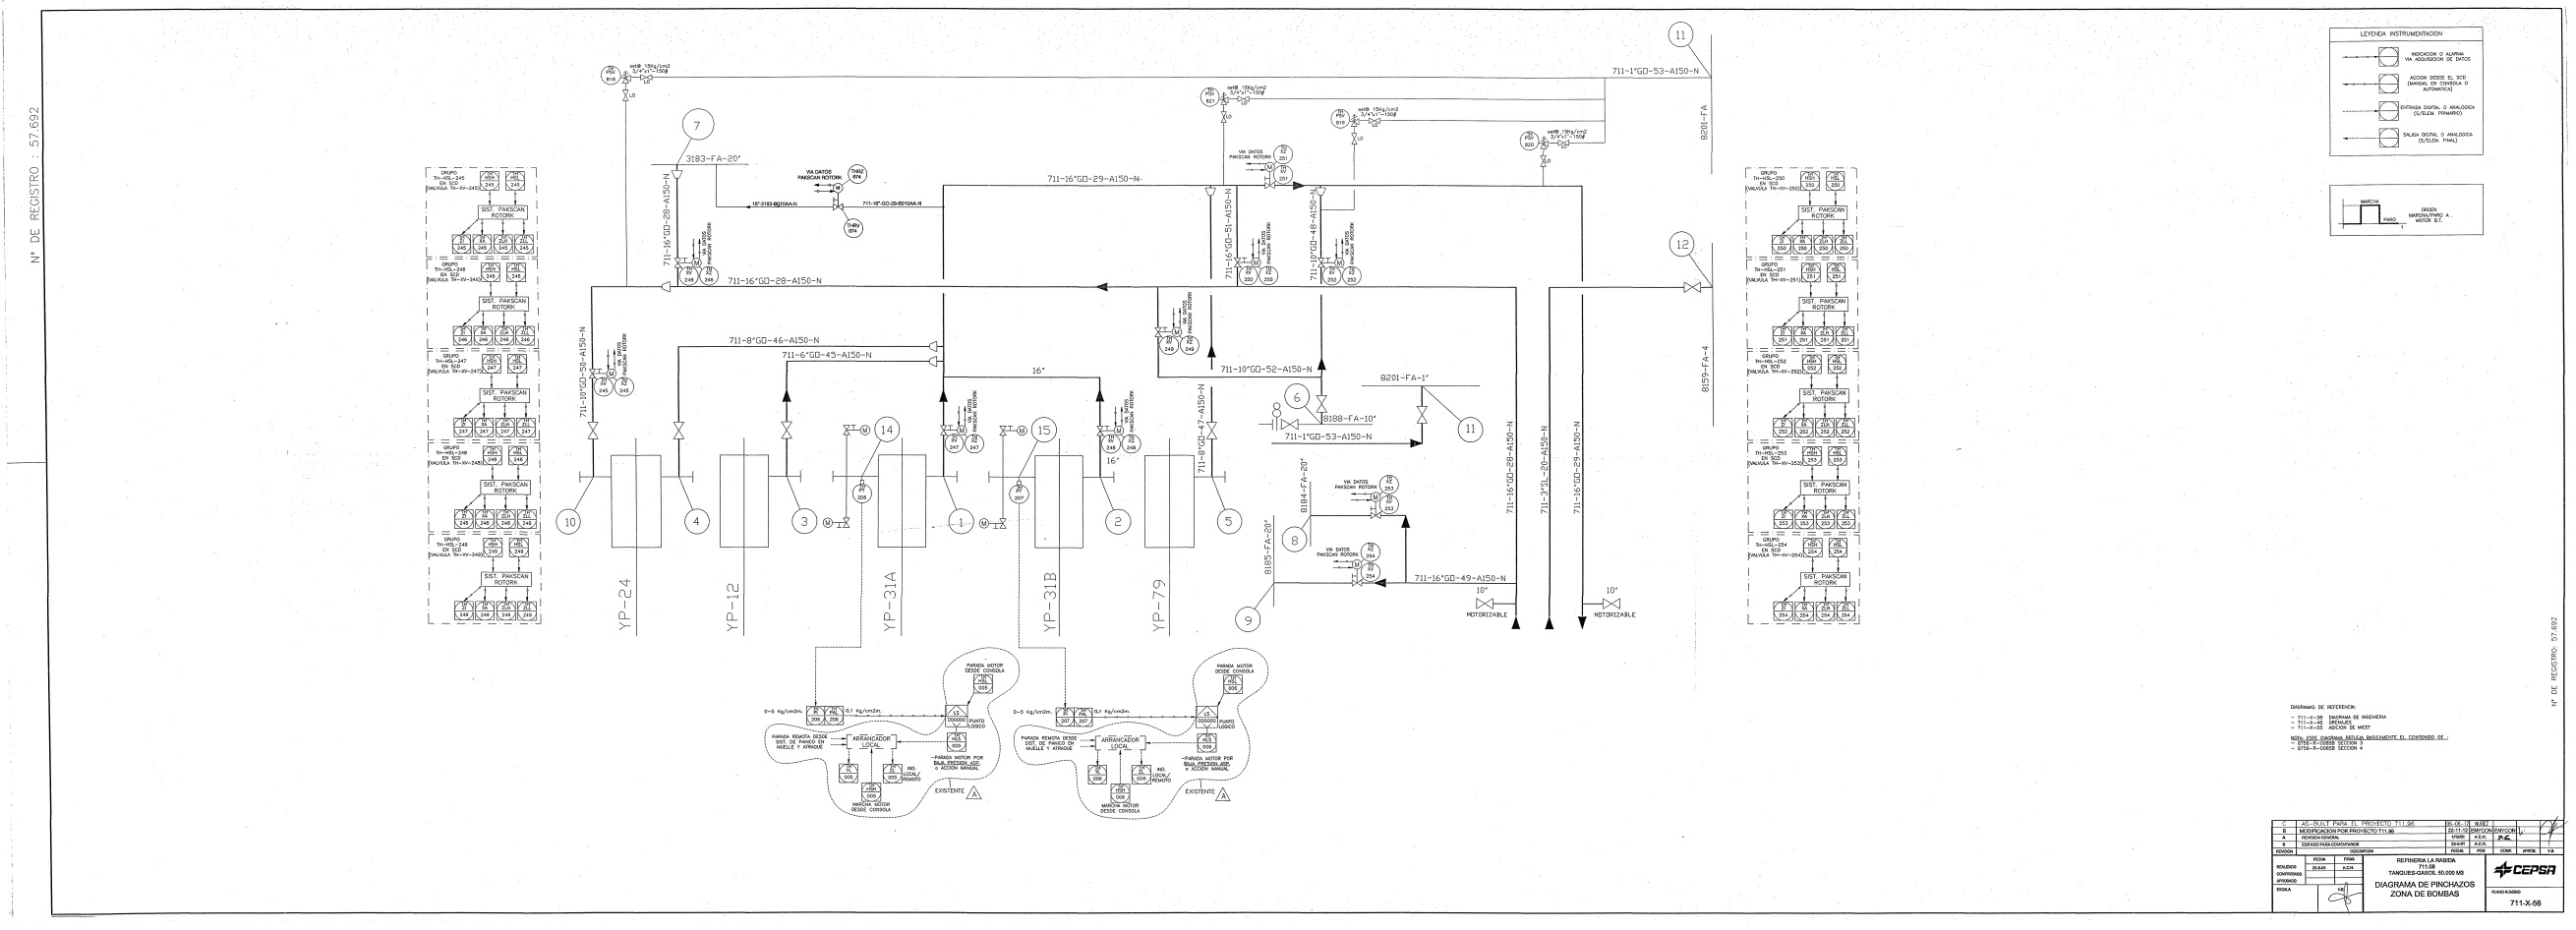Inlinel Instrument: (843, 215, 866, 242), (613, 375, 636, 401), (1518, 127, 1541, 153), (1378, 470, 1401, 496), (1359, 537, 1382, 564), (963, 430, 986, 457), (598, 62, 621, 87), (848, 161, 871, 186), (1341, 263, 1364, 288), (1257, 263, 1280, 288), (1199, 85, 1221, 112), (1331, 105, 1352, 131), (1180, 332, 1201, 358), (1120, 430, 1142, 457)
Panel Instrument: (478, 168, 501, 192), (450, 228, 473, 253), (480, 261, 503, 286), (504, 261, 527, 286), (450, 322, 473, 347), (491, 322, 514, 347), (450, 416, 473, 440), (493, 412, 516, 437), (514, 506, 537, 531), (483, 534, 506, 559), (508, 536, 531, 560), (452, 598, 475, 623), (838, 759, 861, 784), (882, 761, 905, 785), (973, 672, 996, 697), (1086, 762, 1109, 787), (1130, 762, 1153, 787), (1196, 731, 1219, 756), (1222, 672, 1245, 697), (1055, 707, 1078, 731), (453, 506, 476, 529), (506, 168, 527, 192), (491, 232, 513, 256), (496, 598, 517, 623), (805, 703, 826, 728), (946, 731, 968, 756)
